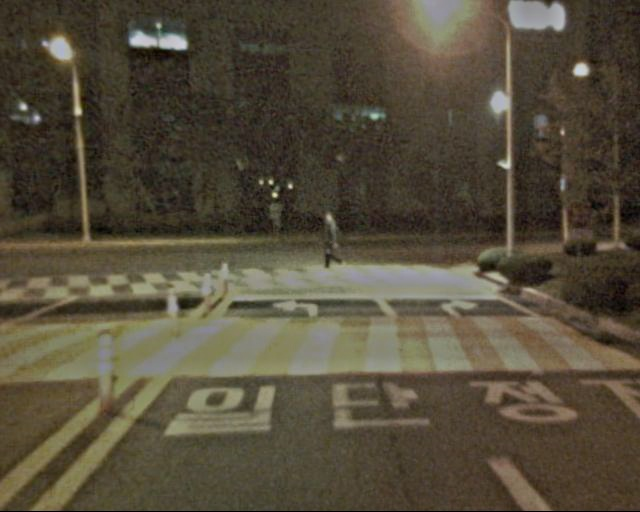person: (316, 211, 345, 281)
